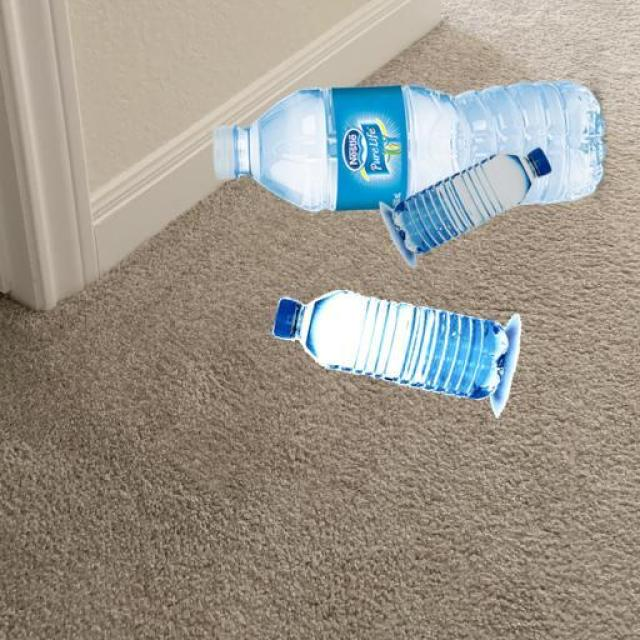bottle: (206, 85, 624, 209), (252, 277, 531, 424), (372, 147, 552, 268)
